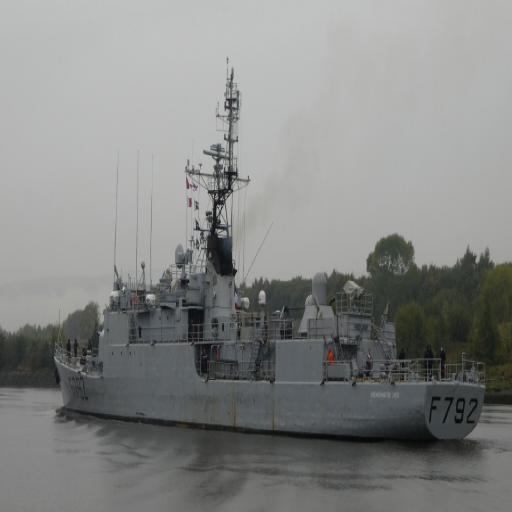Fragata: (53, 54, 486, 450)
